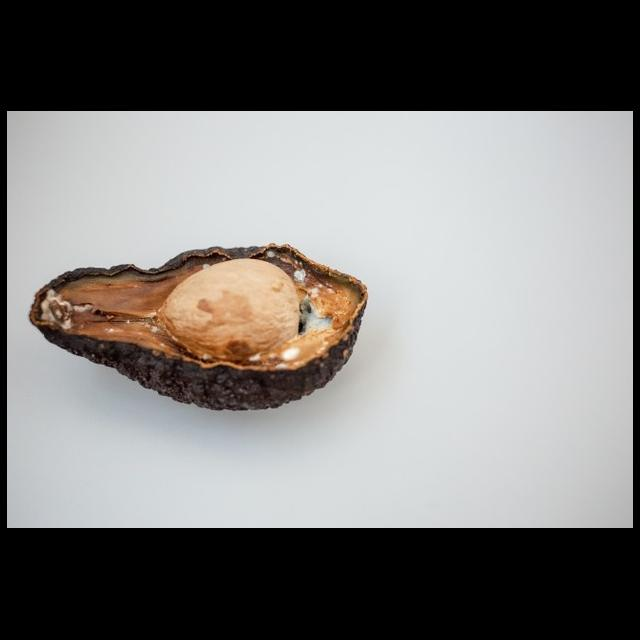food_waste: (20, 212, 409, 422)
